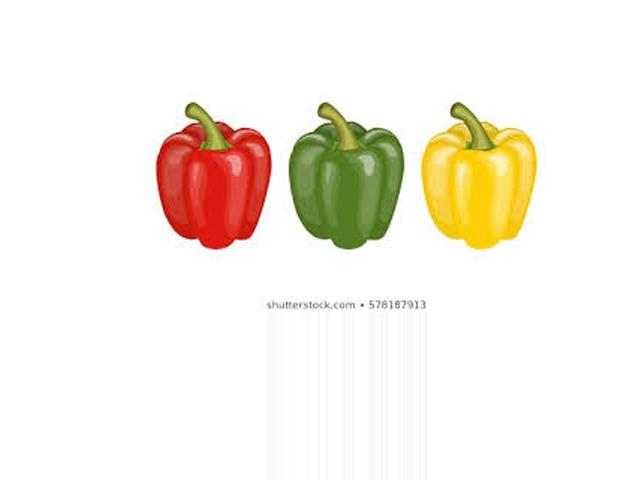bell_pepper: (412, 104, 542, 260)
